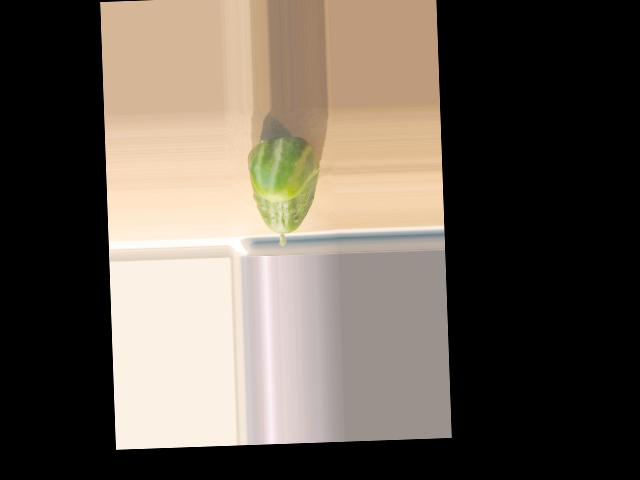cucumber: (246, 135, 321, 247)
